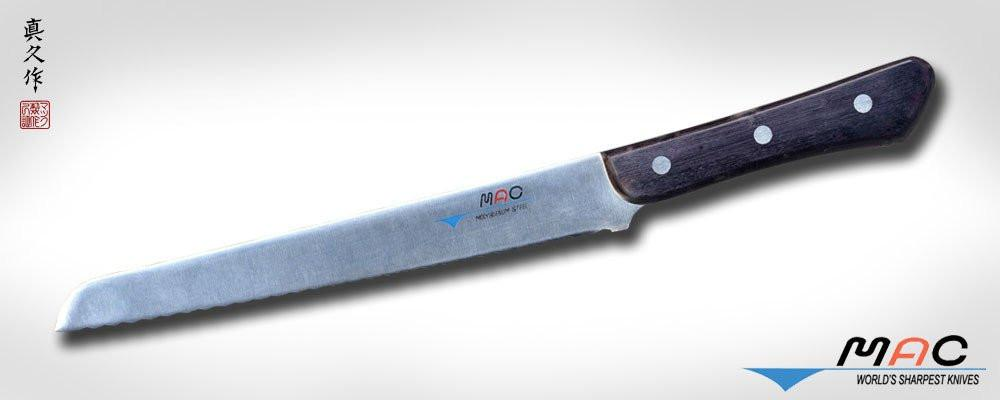knief: (26, 62, 943, 323)
